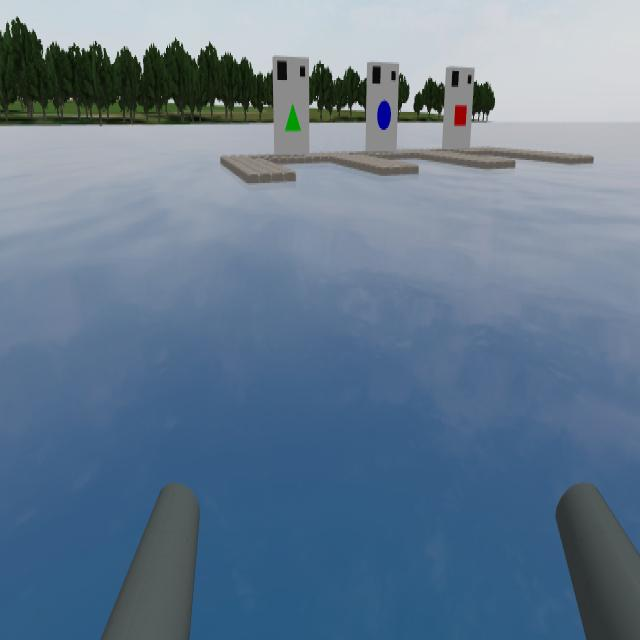dock: (274, 58, 312, 165), (368, 61, 400, 154), (446, 66, 472, 154)
